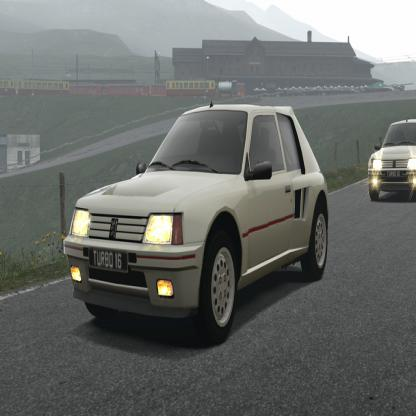Car: (63, 48, 329, 340), (368, 98, 415, 201)
